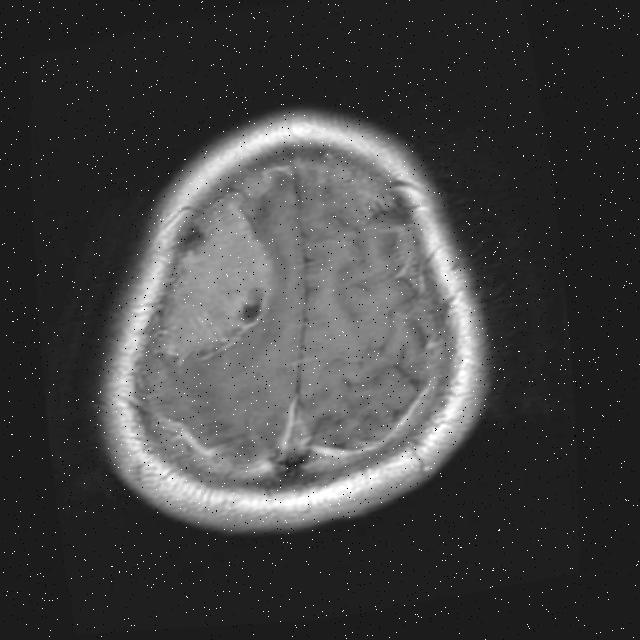Meningioma: (135, 185, 284, 367)
